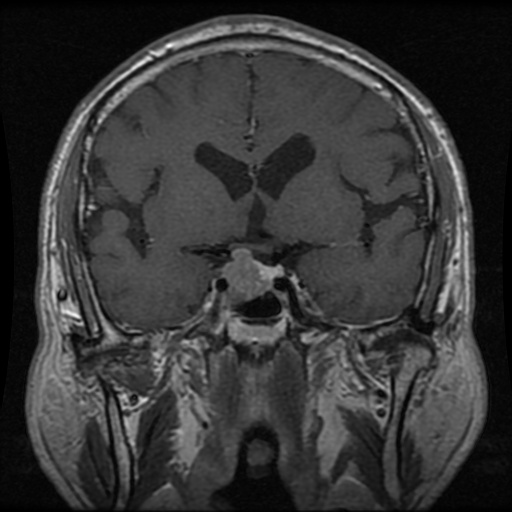pituitary: (221, 249, 284, 305)
